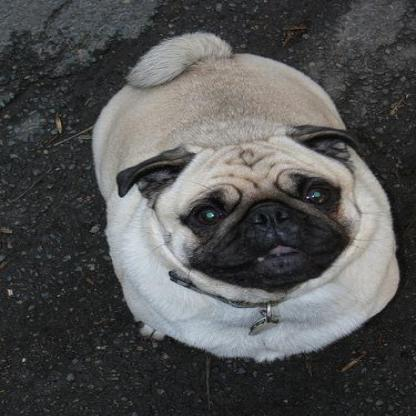pug: (88, 25, 395, 366)
